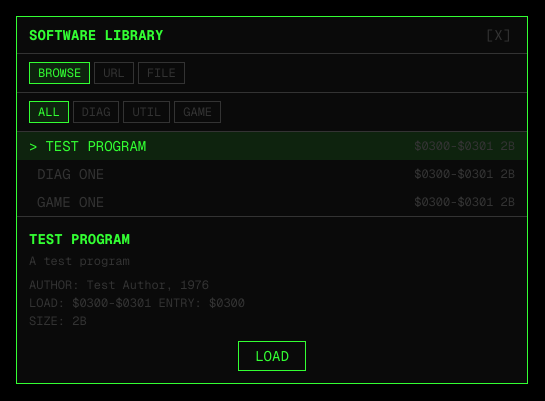
Test: SoftwareLibraryModal › top-level tabs › switches to FILE tab
Click the button "FILE": {"x": 161, "y": 73} [138,62,185,84]
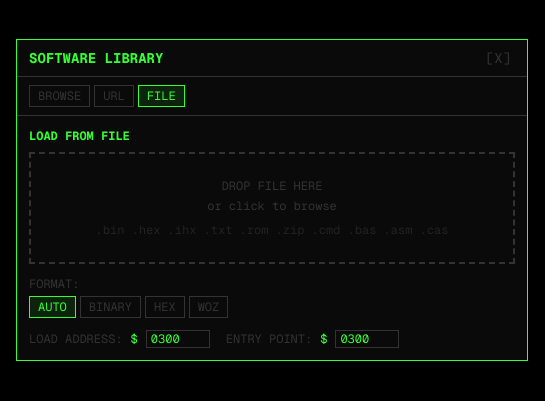
Check: the text "LOAD FROM FILE" is shown, box [29,128,130,144]
